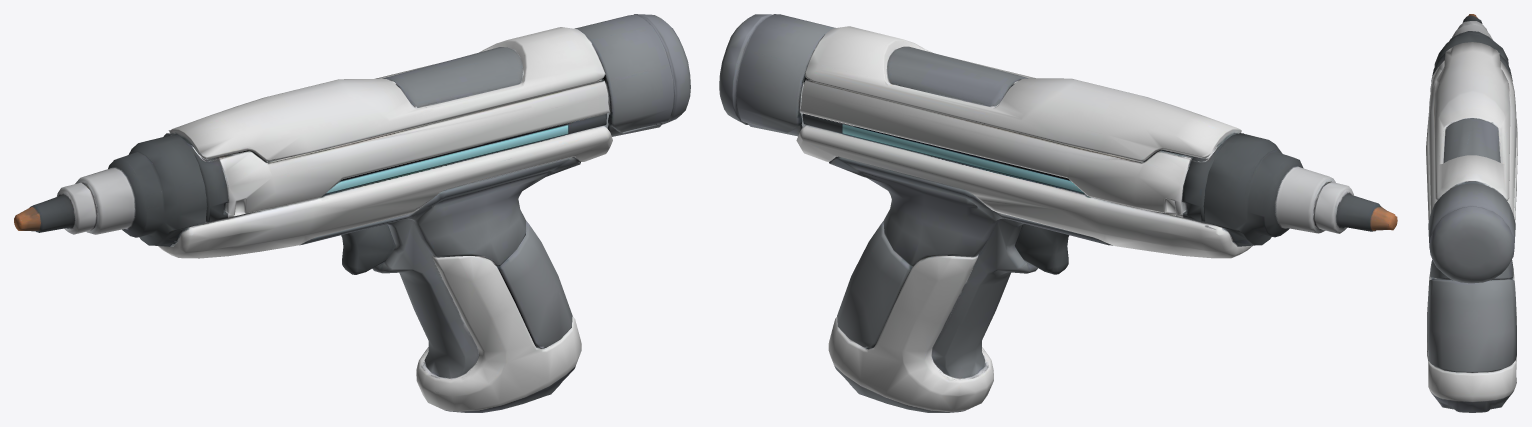
File: 019ed548-962e-798f-984a-c35b06dfbeb5.glb
3 renders of one model, left to right at view 1: azimuth 30°, elevation 25°; view 2: azimuth 150°, elevation 25°; view 3: azimuth 270°, elevation 25°, orthographic. The views are drawn at different scales.
Visible parts, largest first — view 1: tripo_node_78f748c4-ead7-461f-b99f-2794c6f8fa4d; view 2: tripo_node_78f748c4-ead7-461f-b99f-2794c6f8fa4d; view 3: tripo_node_78f748c4-ead7-461f-b99f-2794c6f8fa4d.
Part boxes in pixels (x1=…): tripo_node_78f748c4-ead7-461f-b99f-2794c6f8fa4d: x1=14, y1=14, x2=690, y2=412; tripo_node_78f748c4-ead7-461f-b99f-2794c6f8fa4d: x1=719, y1=14, x2=1397, y2=412; tripo_node_78f748c4-ead7-461f-b99f-2794c6f8fa4d: x1=1426, y1=14, x2=1517, y2=412.
Bounding box in the file's own units: 0.998 × 0.5059 × 0.166.
1 material, 1 textured.
